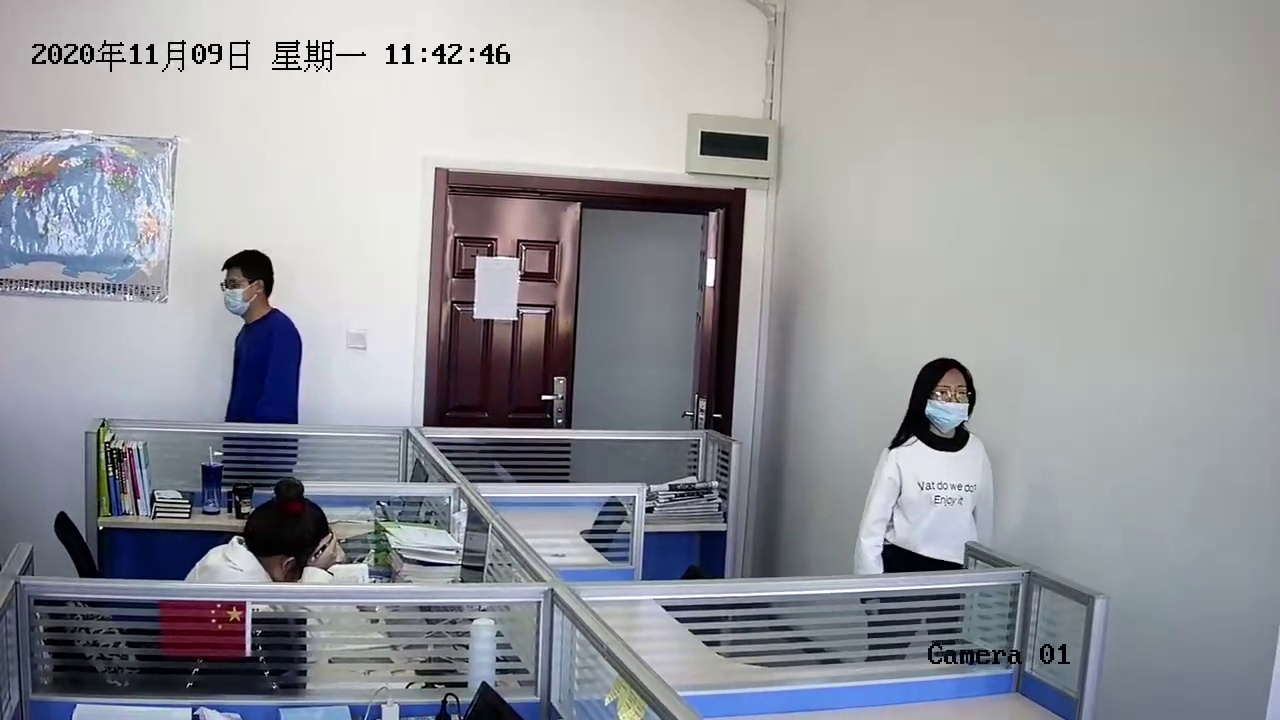mask: (915, 362, 976, 434), (220, 254, 273, 318)
